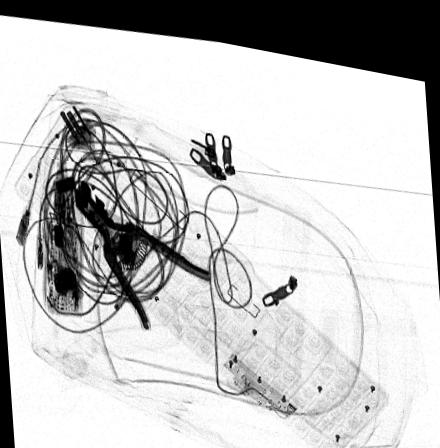Pliers: (75, 177, 210, 325)
